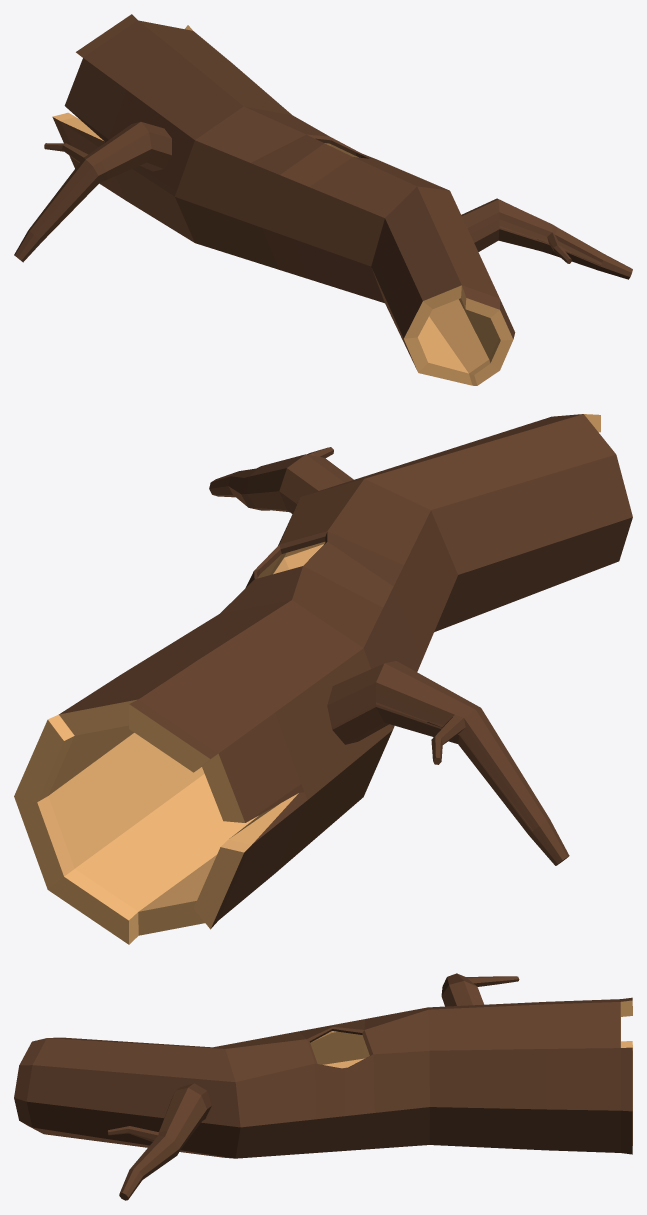
Rendered from log.fbx.
3 views of the same model, one above another, from view 1: azimuth 30°, elevation 25°; view 2: azimuth 150°, elevation 25°; view 3: azimuth 270°, elevation 25° (orthographic). The views are drawn at different scales.
Parts seen in each view (by area): view 1: Circle; view 2: Circle; view 3: Circle.
Boxes of the visible parts, x1=… form: Circle: x1=14, y1=14, x2=632, y2=385; Circle: x1=14, y1=414, x2=632, y2=944; Circle: x1=14, y1=973, x2=632, y2=1200.
Size of the model in its own units: 692 by 255 by 944.
